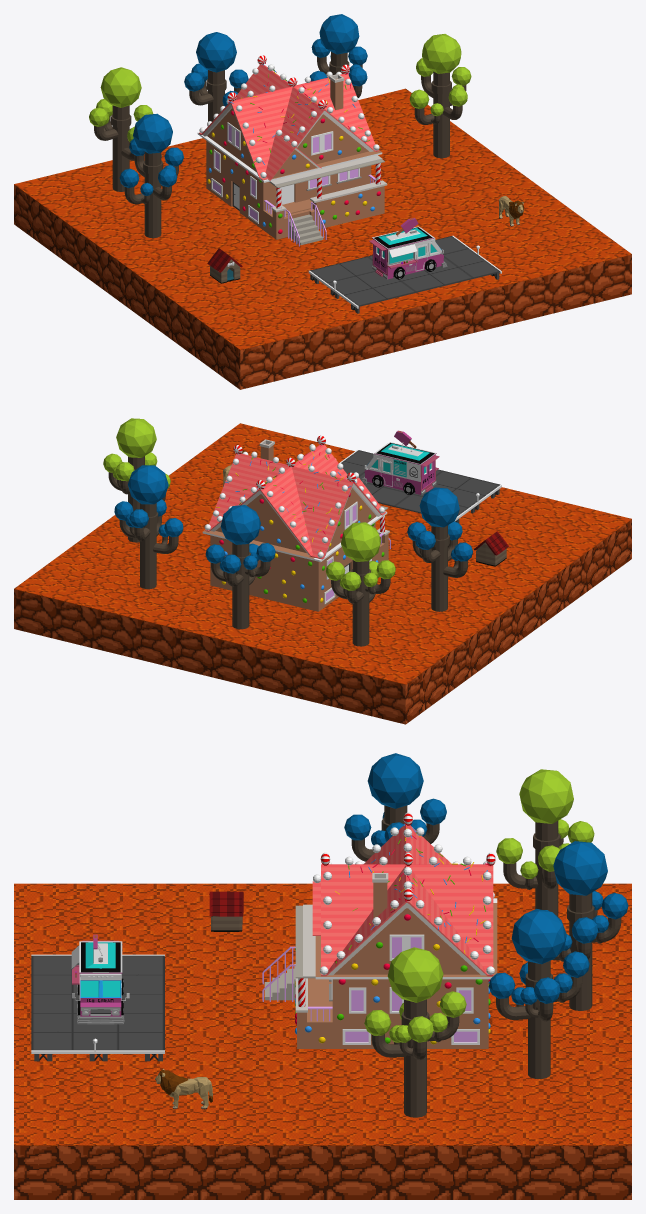
3 views of the same model, one above another, from view 1: azimuth 30°, elevation 25°; view 2: azimuth 150°, elevation 25°; view 3: azimuth 270°, elevation 25° (orthographic). The views are drawn at different scales.
Parts seen in each view (by area): view 1: Cube.001, Cube.1203, VEHICLES_ICE_CREAM_TRUCK, OBJRANDOM_DOGHOUSE; view 2: Cube.001, Cube.1203, VEHICLES_ICE_CREAM_TRUCK, OBJRANDOM_DOGHOUSE; view 3: Cube.001, Cube.1203, VEHICLES_ICE_CREAM_TRUCK, OBJRANDOM_DOGHOUSE, ANIMAL_LEON.
Part boxes in pixels (left/top/right/bottom): Cube.001: left=14, top=14, right=631, bottom=389; Cube.1203: left=197, top=55, right=387, bottom=246; VEHICLES_ICE_CREAM_TRUCK: left=369, top=218, right=447, bottom=279; OBJRANDOM_DOGHOUSE: left=207, top=248, right=242, bottom=283; Cube.001: left=14, top=418, right=631, bottom=724; Cube.1203: left=202, top=435, right=390, bottom=611; VEHICLES_ICE_CREAM_TRUCK: left=361, top=430, right=439, bottom=494; OBJRANDOM_DOGHOUSE: left=473, top=531, right=508, bottom=566; Cube.001: left=14, top=753, right=631, bottom=1199; Cube.1203: left=262, top=812, right=497, bottom=1048; VEHICLES_ICE_CREAM_TRUCK: left=71, top=934, right=129, bottom=1024; OBJRANDOM_DOGHOUSE: left=209, top=891, right=243, bottom=931; ANIMAL_LEON: left=155, top=1069, right=212, bottom=1109.
Size of the model in its own units: 4000 by 1667 by 4000.
Materials: 52 (5 with a texture image).
